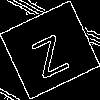Z: (24, 25, 71, 80)
